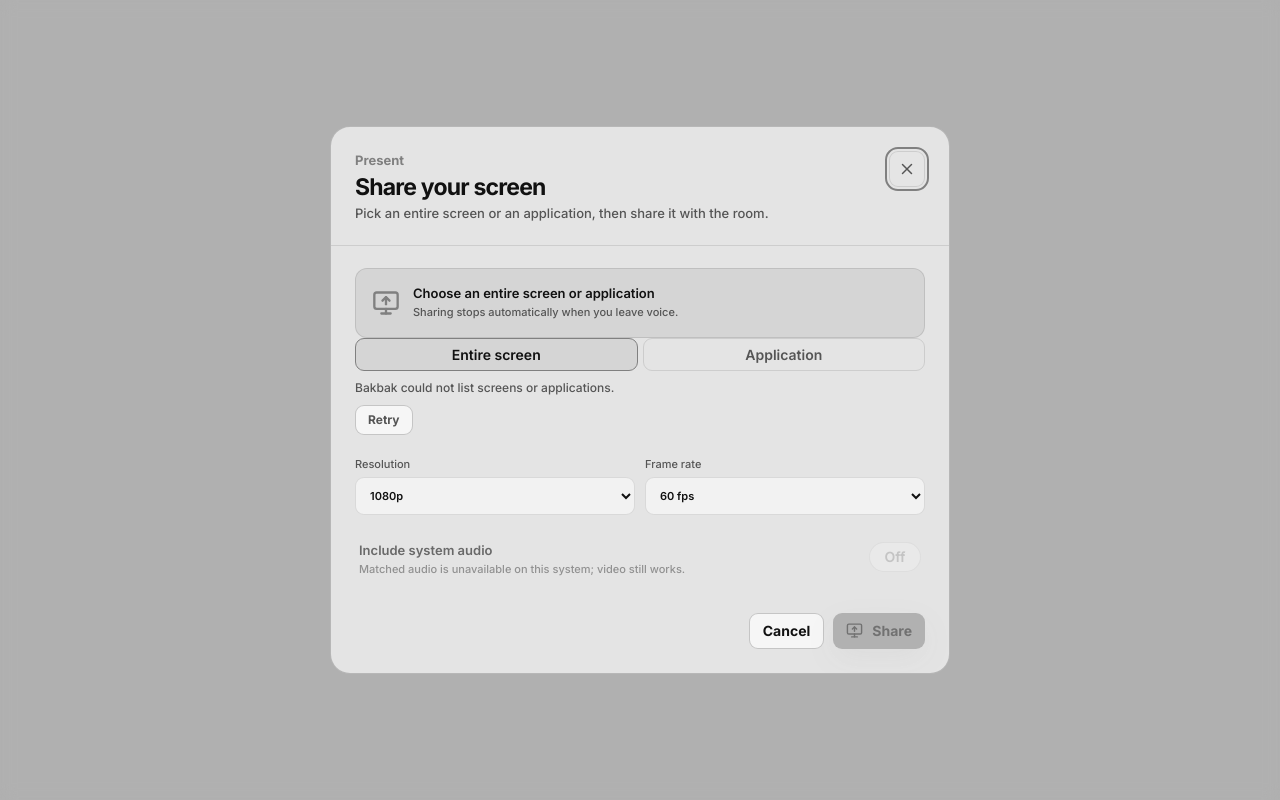
ScreenShareDialog › shows a retryable empty state when source enumeration fails
expect the message shows "Bakbak could not list screens or applications.": met, box x1=355 y1=380 x2=614 y2=395
expect the button "Share" is disabled: met, box x1=833 y1=613 x2=925 y2=649
What coordinates should you click on to do the following:
click the button "Retry"
I would click on:
 (384, 420)
Its box is x1=355 y1=405 x2=413 y2=435.
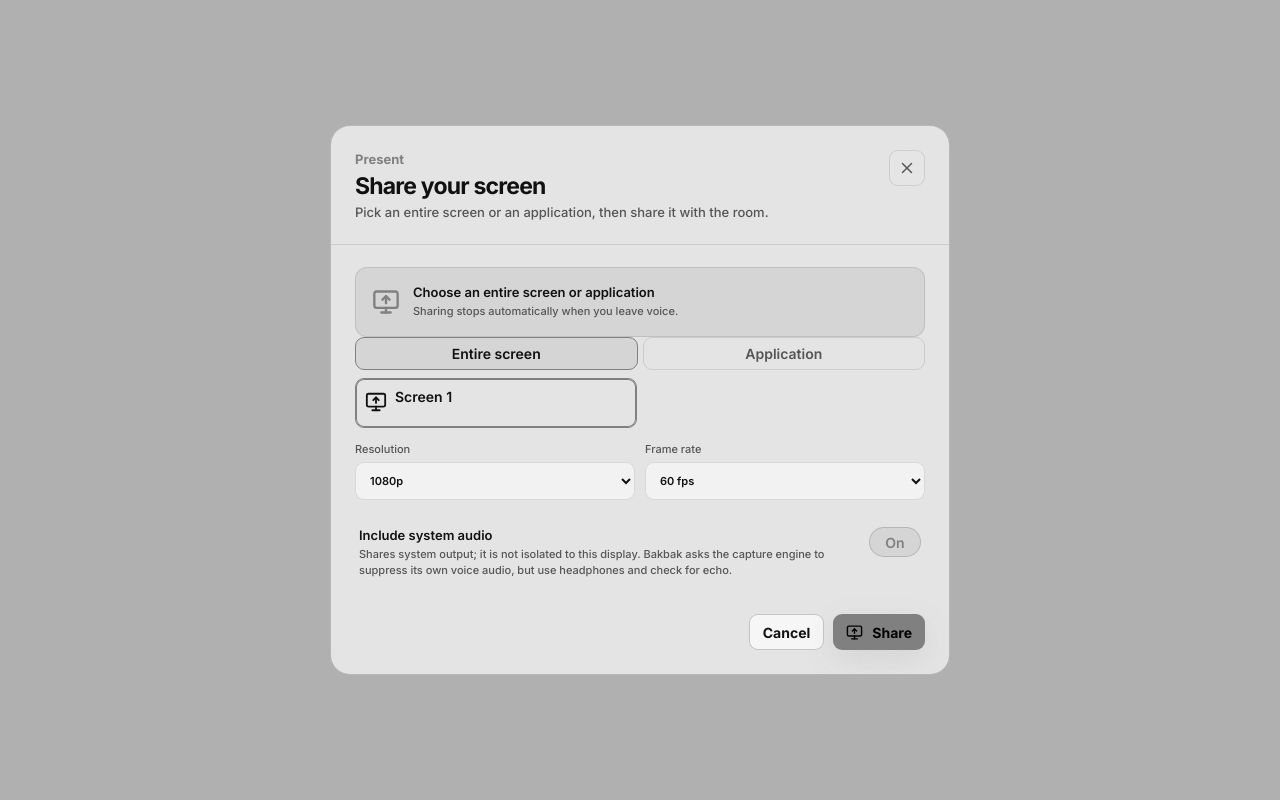
expect the button "Screen 1" is shown: met, box x1=355 y1=378 x2=637 y2=428
expect the button "Share" is enabled: met, box x1=833 y1=614 x2=925 y2=650
